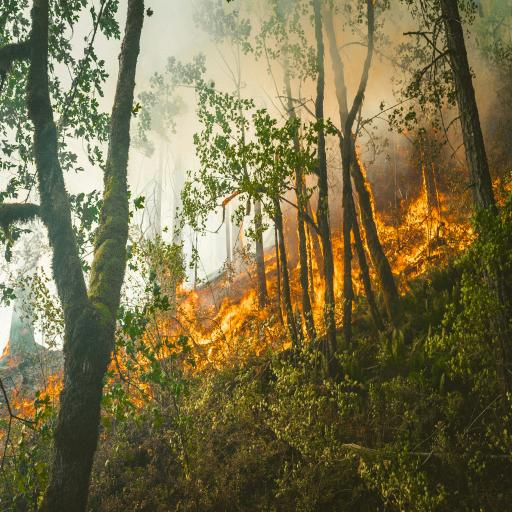wildfire: (0, 8, 512, 436)
